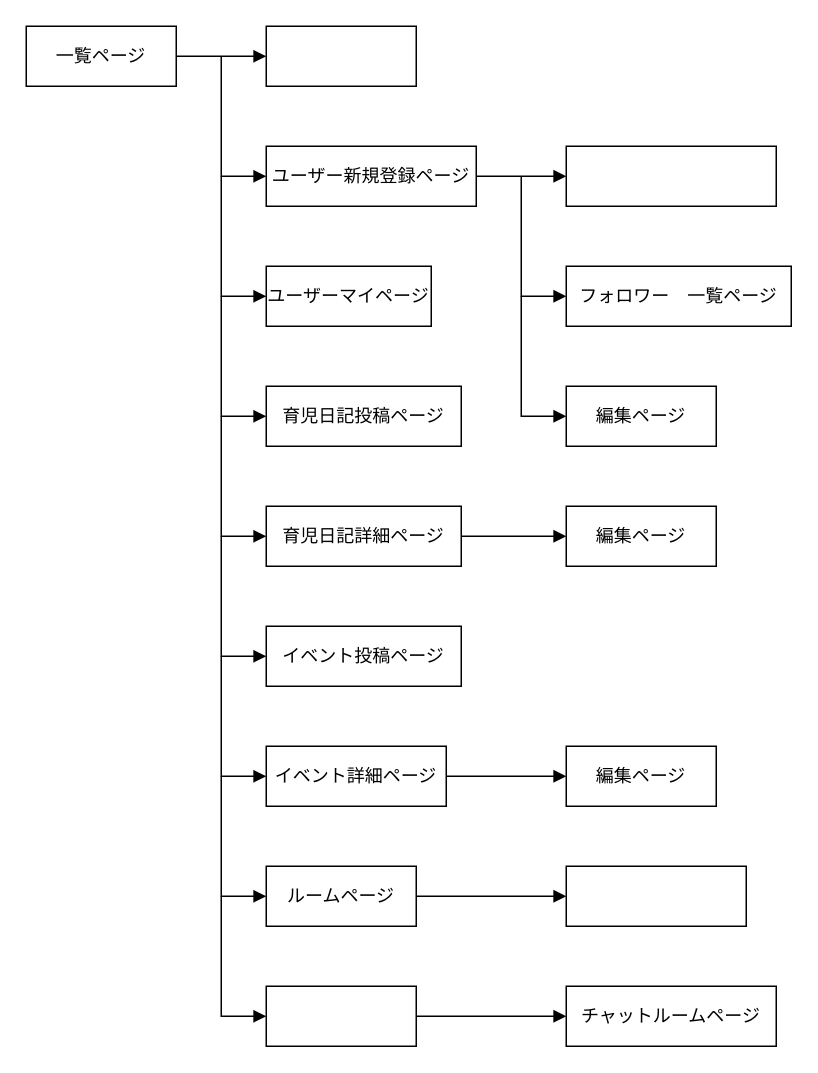
Image size: 818x1073. Some labels were removed from this diagram. Here are the shapes that lost their labels. From the top down, the box of each, then its label:
(265, 25, 416, 86): ユーザーログインページ
(565, 145, 776, 206): フォロー 一覧ページ
(565, 865, 746, 926): ルーム作成ページ
(265, 985, 416, 1046): 検索一覧ページ
